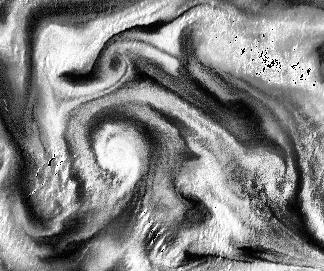CE: (93, 120, 146, 176), (103, 46, 132, 82)
